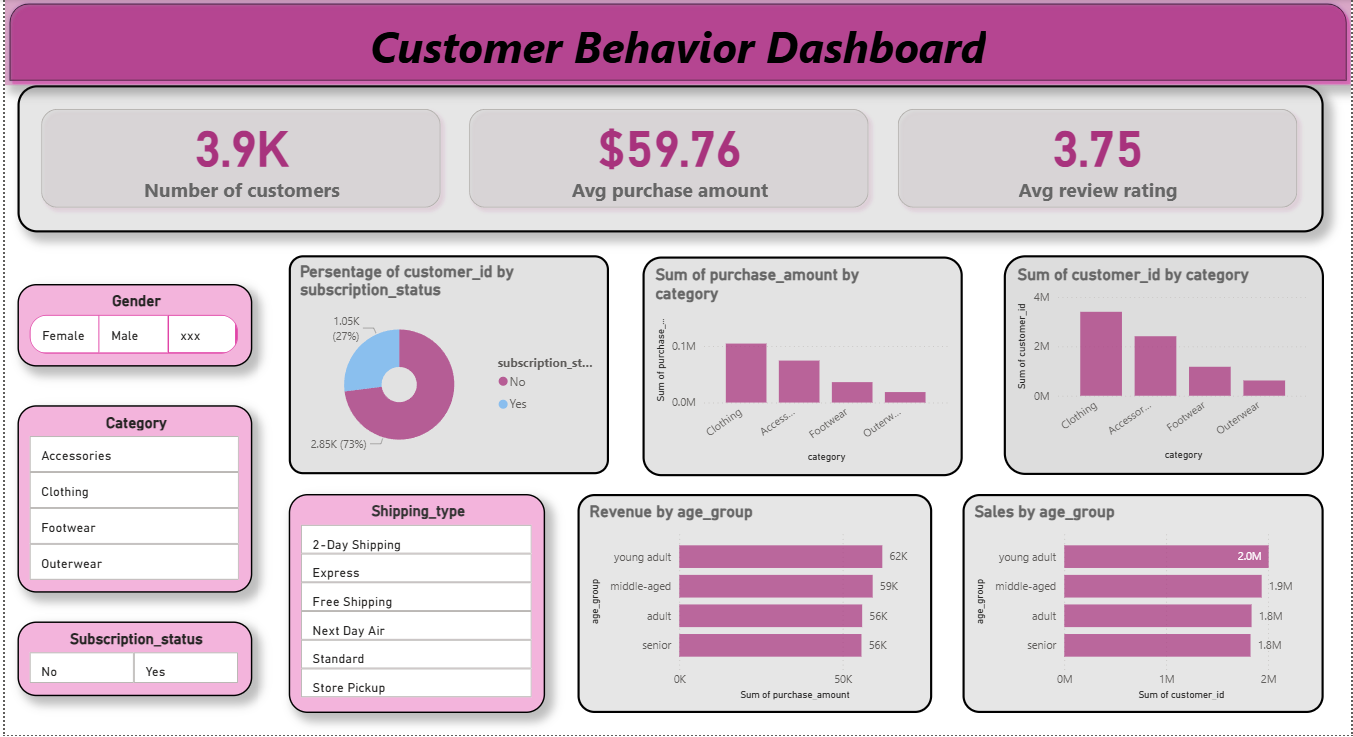

Layout of this report page (visuals, bound fields, positions):
{"tool":"powerbi","page":{"name":"Page 1","canvas":[1500,820],"ordinal":0},"visuals":[{"type":"cardVisual","fields":{"Data":["public customer.number of customers","public customer.avg purchase amount","public customer.avg review rating"]},"box":[13.9,96.1,1455.3,164.3],"z":0},{"type":"shape","box":[0,0,1499.9,96.1],"z":1000},{"type":"donutChart","title":"Persentage of customer_id by subscription_status","fields":{"Category":["public customer.subscription_status"],"Y":["CountNonNull(public customer.customer_id)"]},"box":[316.1,285.5,356.5,243.7],"z":2000},{"type":"clusteredColumnChart","fields":{"Category":["public customer.category"],"Y":["Sum(public customer.purchase_amount)"]},"box":[710.3,286.9,356.5,245.1],"z":3000},{"type":"clusteredColumnChart","fields":{"Category":["public customer.category"],"Y":["Sum(public customer.customer_id)"]},"box":[1112.7,285.5,356.5,245.1],"z":4000},{"type":"advancedSlicerVisual","title":"Subscription_status","fields":{"Values":["public customer.subscription_status"]},"box":[13.9,693.5,261.8,83.6],"z":5000},{"type":"advancedSlicerVisual","title":"Gender","fields":{"Values":["public customer.gender"]},"box":[13.9,317.5,261.8,91.9],"z":6000},{"type":"advancedSlicerVisual","title":"Category","fields":{"Values":["public customer.category"]},"box":[13.9,452.6,261.8,208.9],"z":7000},{"type":"advancedSlicerVisual","title":"Shipping_type","fields":{"Values":["public customer.shipping_type"]},"box":[316.1,551.5,285.5,243.7],"z":8000},{"type":"clusteredBarChart","title":"Revenue by age_group","fields":{"Y":["Sum(public customer.purchase_amount)"],"Category":["public customer.age_group"]},"box":[637.8,551.5,395.5,243.7],"z":8001},{"type":"clusteredBarChart","title":"Sales by age_group","fields":{"Y":["Sum(public customer.customer_id)"],"Category":["public customer.age_group"]},"box":[1066.8,551.5,402.5,243.7],"z":8002}]}

Visuals, with their boxes in screenshot pixels (x1, y1, x2, y2), scaled from the page's 1500x820 canvas onto the 1353x737 screenshot:
cardVisual - public customer.number of customers x public customer.avg purchase amount: (13, 86, 1325, 234)
shape: (0, 0, 1352, 86)
"Persentage of customer_id by subscription_status" donutChart: (285, 257, 607, 476)
clusteredColumnChart - public customer.category x Sum(public customer.purchase_amount): (641, 258, 962, 478)
clusteredColumnChart - public customer.category x Sum(public customer.customer_id): (1004, 257, 1325, 477)
"Subscription_status" advancedSlicerVisual: (13, 623, 249, 698)
"Gender" advancedSlicerVisual: (13, 285, 249, 368)
"Category" advancedSlicerVisual: (13, 407, 249, 595)
"Shipping_type" advancedSlicerVisual: (285, 496, 543, 715)
"Revenue by age_group" clusteredBarChart: (575, 496, 932, 715)
"Sales by age_group" clusteredBarChart: (962, 496, 1325, 715)
